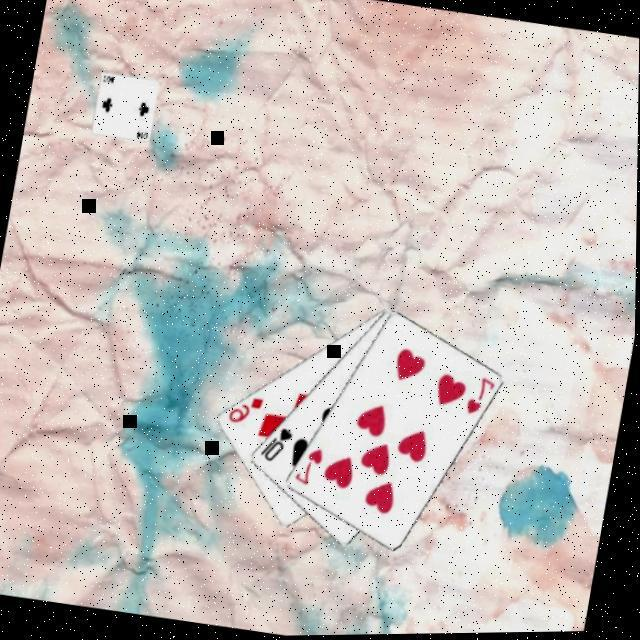10S: (256, 420, 297, 465)
7H: (291, 441, 329, 489), (462, 372, 500, 420)
9D: (224, 388, 266, 427)
